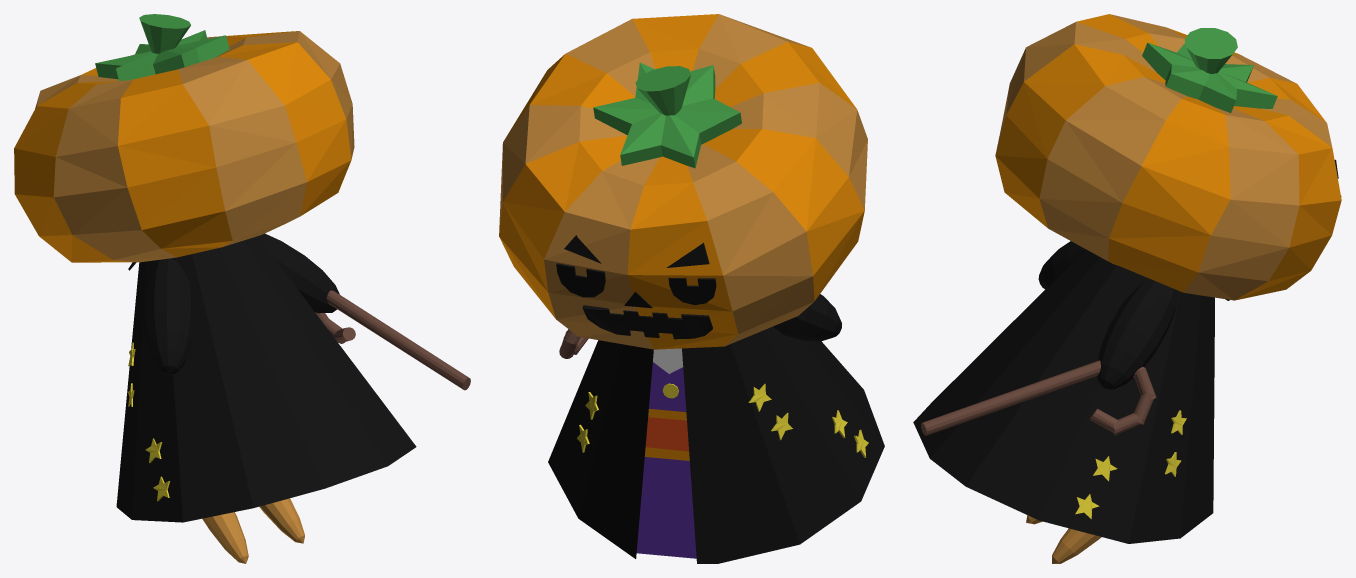
File: kabocha.glb
The picture shows the model from 3 angles, left to right: view 1: azimuth 30°, elevation 25°; view 2: azimuth 150°, elevation 25°; view 3: azimuth 270°, elevation 25°; orthographic projection. The views are drawn at different scales.
Visible parts, largest first — view 1: node_MeshObject1381653504-PolyPaper2; view 2: node_MeshObject1381653504-PolyPaper2; view 3: node_MeshObject1381653504-PolyPaper2.
Part boxes in pixels (<box>): node_MeshObject1381653504-PolyPaper2: <box>14,14,470,563</box>; node_MeshObject1381653504-PolyPaper2: <box>499,14,884,563</box>; node_MeshObject1381653504-PolyPaper2: <box>913,14,1341,563</box>.
Size of the model in its own units: 0.9534 by 1.41 by 1.1.
